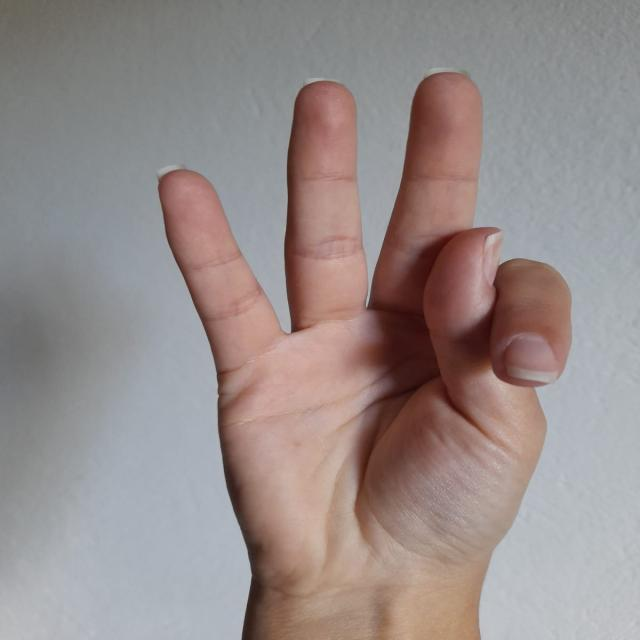T: (139, 56, 584, 496)
